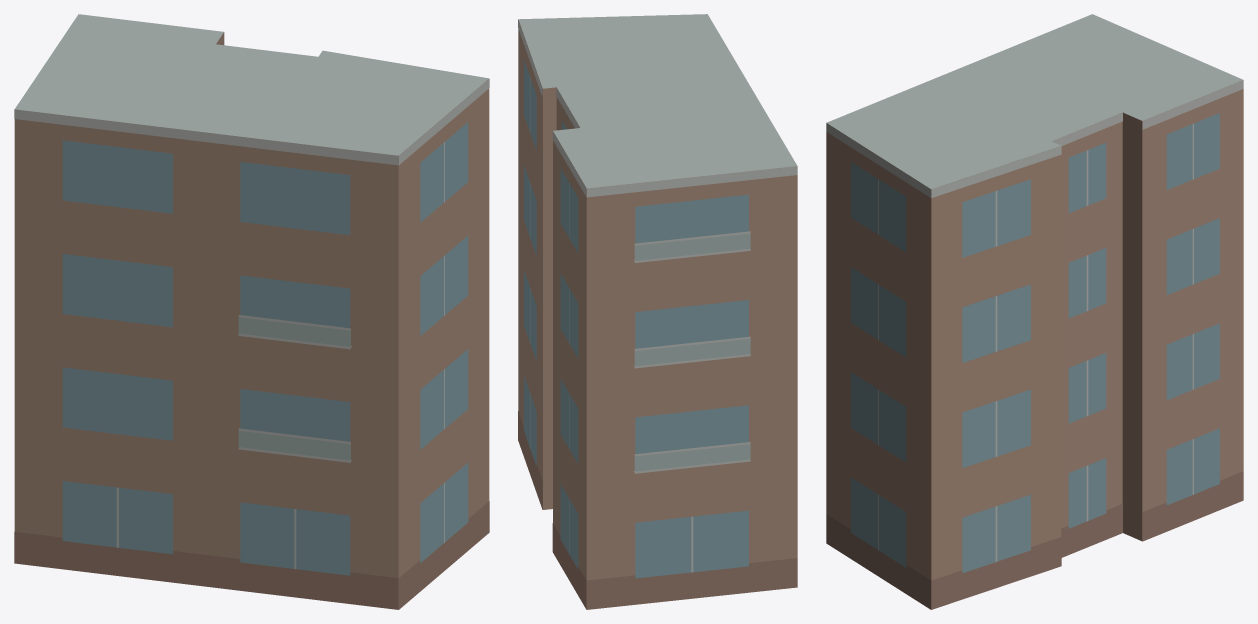
The model's file is survey-upis-32686063.glb.
3 views of the same model, side by side, from view 1: azimuth 30°, elevation 25°; view 2: azimuth 150°, elevation 25°; view 3: azimuth 270°, elevation 25° (orthographic). The views are drawn at different scales.
Parts seen in each view (by area): view 1: survey-upis-32686063.tmp; view 2: survey-upis-32686063.tmp; view 3: survey-upis-32686063.tmp.
Boxes of the visible parts, x1=… form: survey-upis-32686063.tmp: x1=14, y1=14, x2=489, y2=609; survey-upis-32686063.tmp: x1=518, y1=14, x2=797, y2=609; survey-upis-32686063.tmp: x1=826, y1=14, x2=1243, y2=609.
Size of the model in its own units: 10.3 by 11.51 by 10.36.
